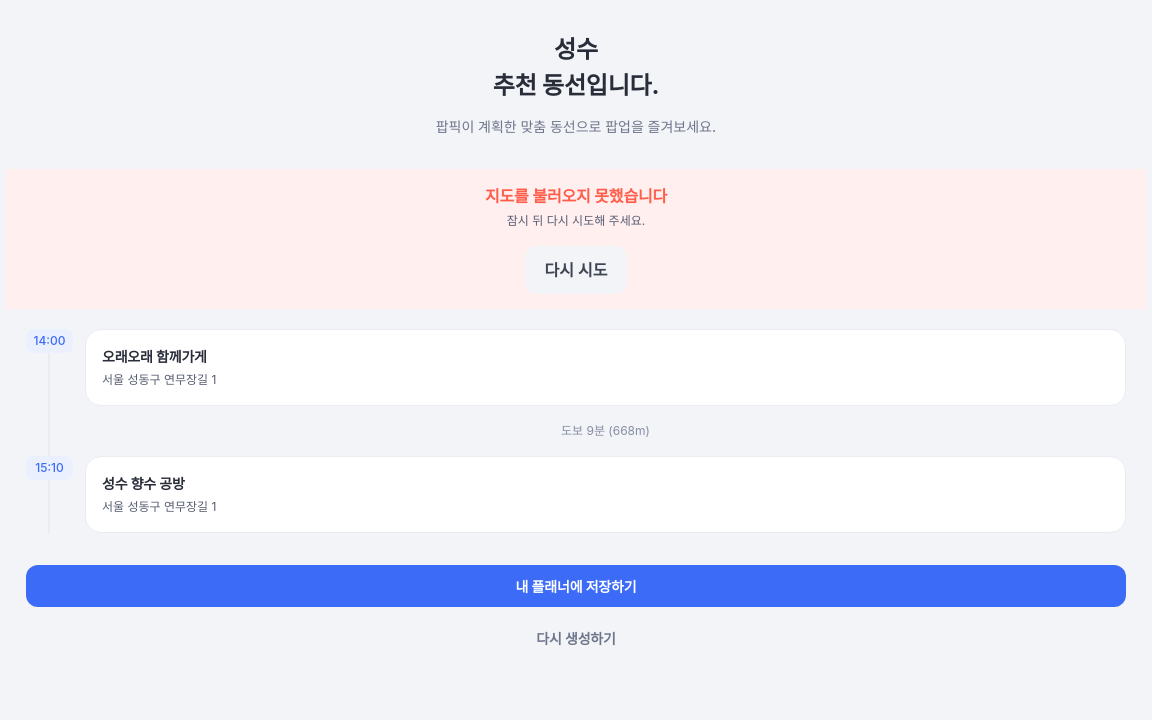
방문일이 지난 코스를 저장하려 하면 저장하지 못한 이유를 알린다
This screenshot has width=1152, height=720.
Click the button "내 플래너에 저장하기" at (576, 586), box left=26, top=565, right=1126, bottom=607
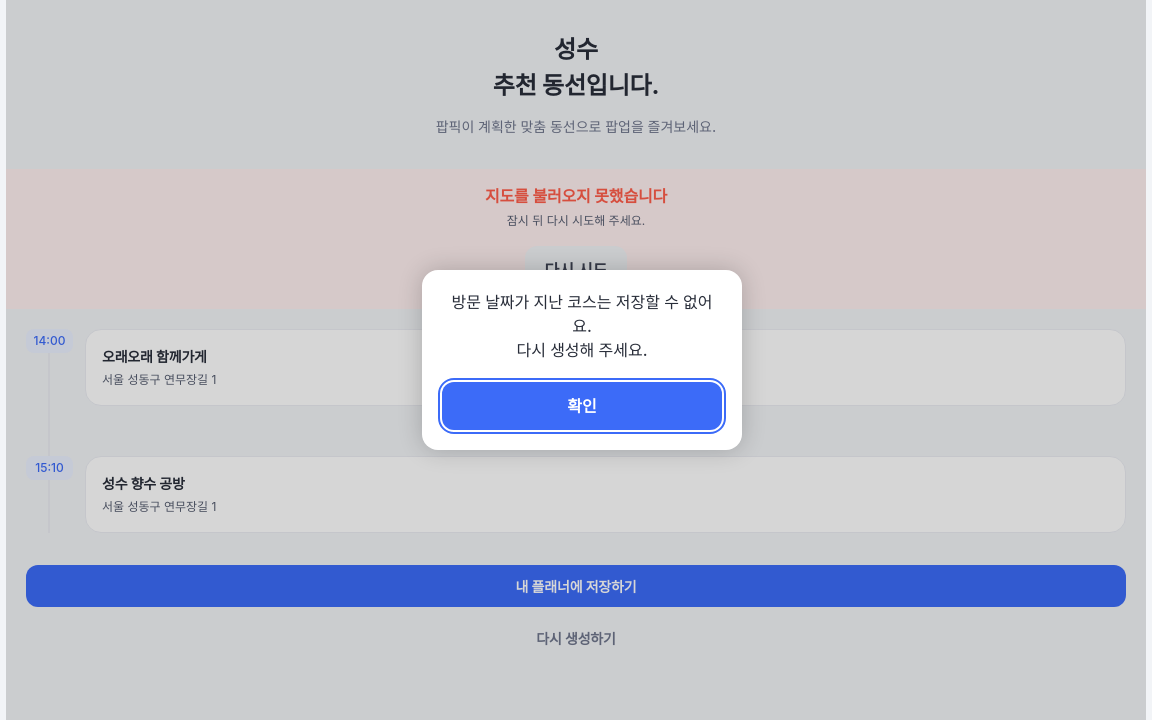
expect the dialog "방문 날짜가 지난 코스는 저장할 수 없어요. 다시 생성해 주세요. 확인" is shown: met, box left=422, top=270, right=742, bottom=450
